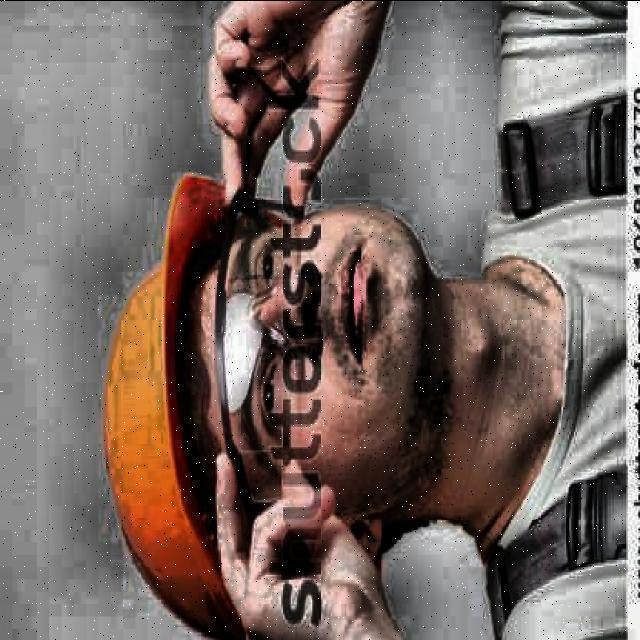Goggles: (208, 172, 324, 526)
